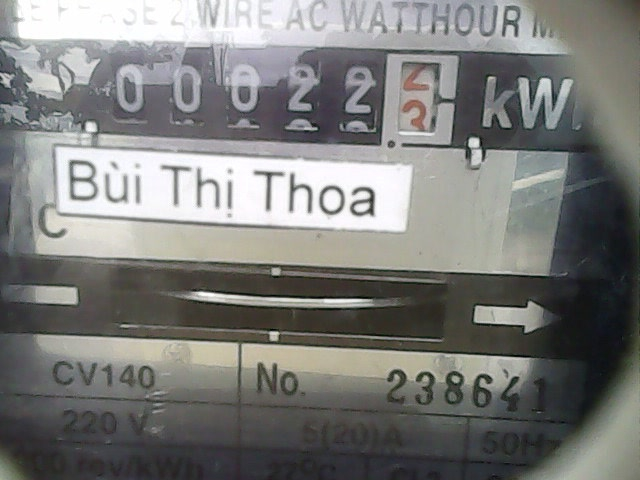phy_plate: (100, 41, 468, 156)
